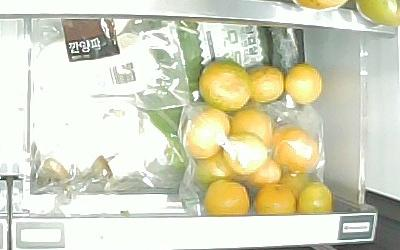tangerine: (200, 60, 250, 111), (200, 182, 250, 216), (252, 182, 297, 216), (285, 63, 322, 104), (247, 64, 284, 103), (297, 180, 334, 215), (246, 158, 283, 185)
tangerine_vinyl: (270, 126, 321, 176), (180, 108, 229, 158), (220, 132, 267, 174), (230, 107, 274, 151), (195, 153, 235, 184), (279, 171, 312, 200)
